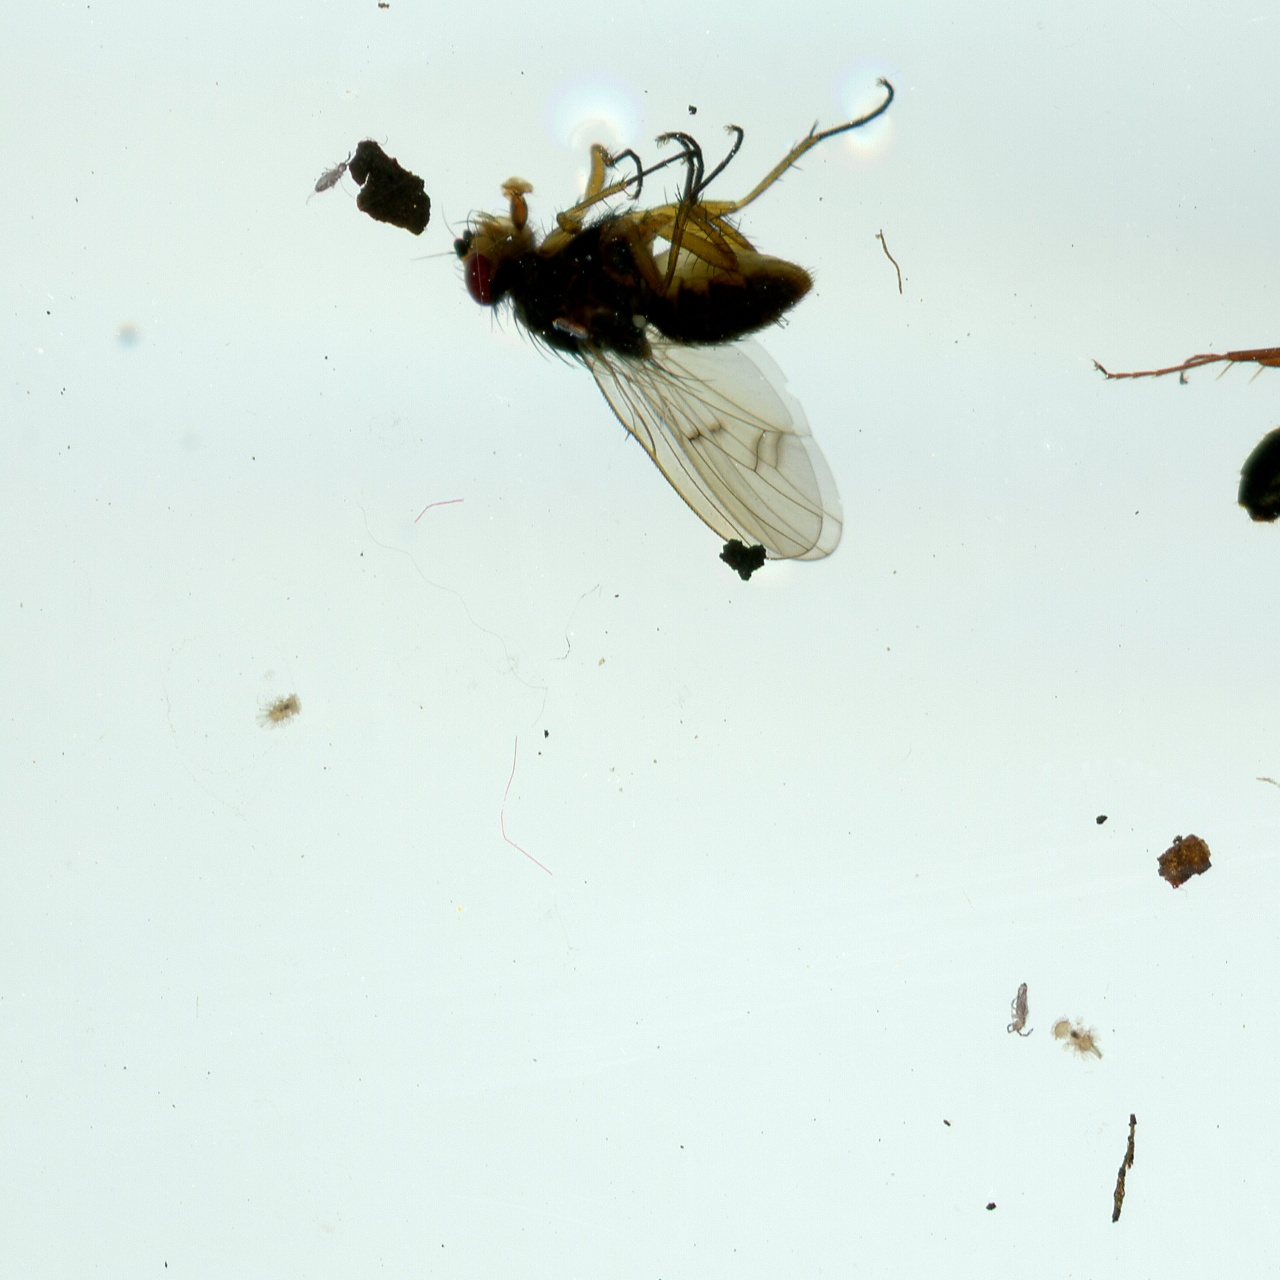arthropod: (408, 69, 928, 574), (1085, 230, 1280, 680), (293, 136, 367, 223), (1047, 1008, 1109, 1067), (253, 689, 307, 733), (1005, 978, 1036, 1039)
